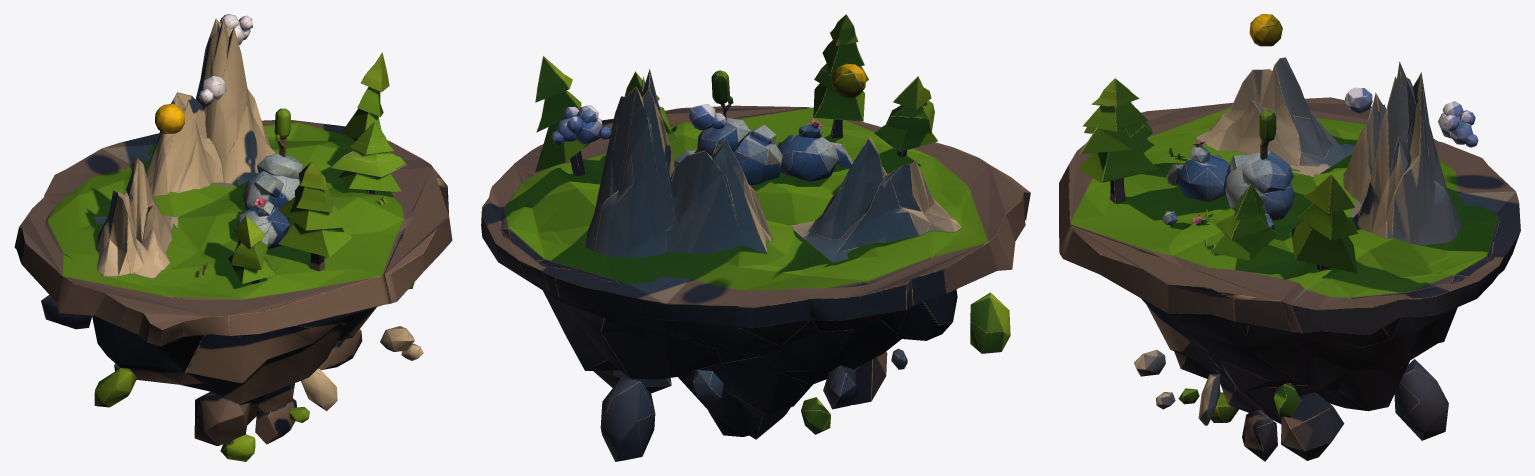
Rendered from Island.glb.
3 renders of one model, left to right at view 1: azimuth 30°, elevation 25°; view 2: azimuth 150°, elevation 25°; view 3: azimuth 270°, elevation 25°, orthographic. The views are drawn at different scales.
Visible parts, largest first — view 1: Object_2; view 2: Object_2; view 3: Object_2.
Boxes of the visible parts, x1,y1,x2,y2 form: Object_2: (14, 14, 452, 461); Object_2: (481, 14, 1030, 461); Object_2: (1059, 14, 1520, 461).
Size of the model in its own units: 10.71 by 9.38 by 9.75.
1 material, 1 textured.
